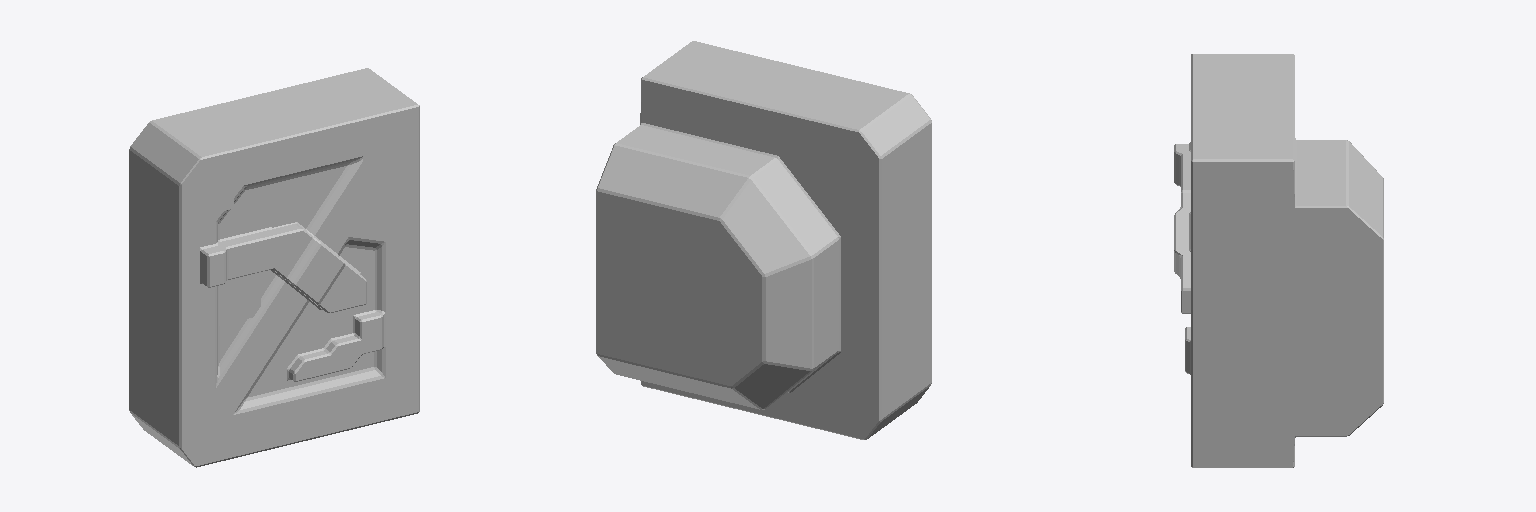
The model's file is Filler.obj.
The picture shows the model from 3 angles: view 1: azimuth 30°, elevation 25°; view 2: azimuth 150°, elevation 25°; view 3: azimuth 270°, elevation 25°; orthographic projection.
Parts seen in each view (by area): view 1: Filler_Plane.001; view 2: Filler_Plane.001; view 3: Filler_Plane.001.
Boxes of the visible parts, box(x1,y1,x2,y2) form: Filler_Plane.001: box(129, 68, 419, 467); Filler_Plane.001: box(596, 41, 931, 439); Filler_Plane.001: box(1174, 54, 1383, 467).
Bounding box in the file's own units: 9.33 × 11.45 × 7.11.